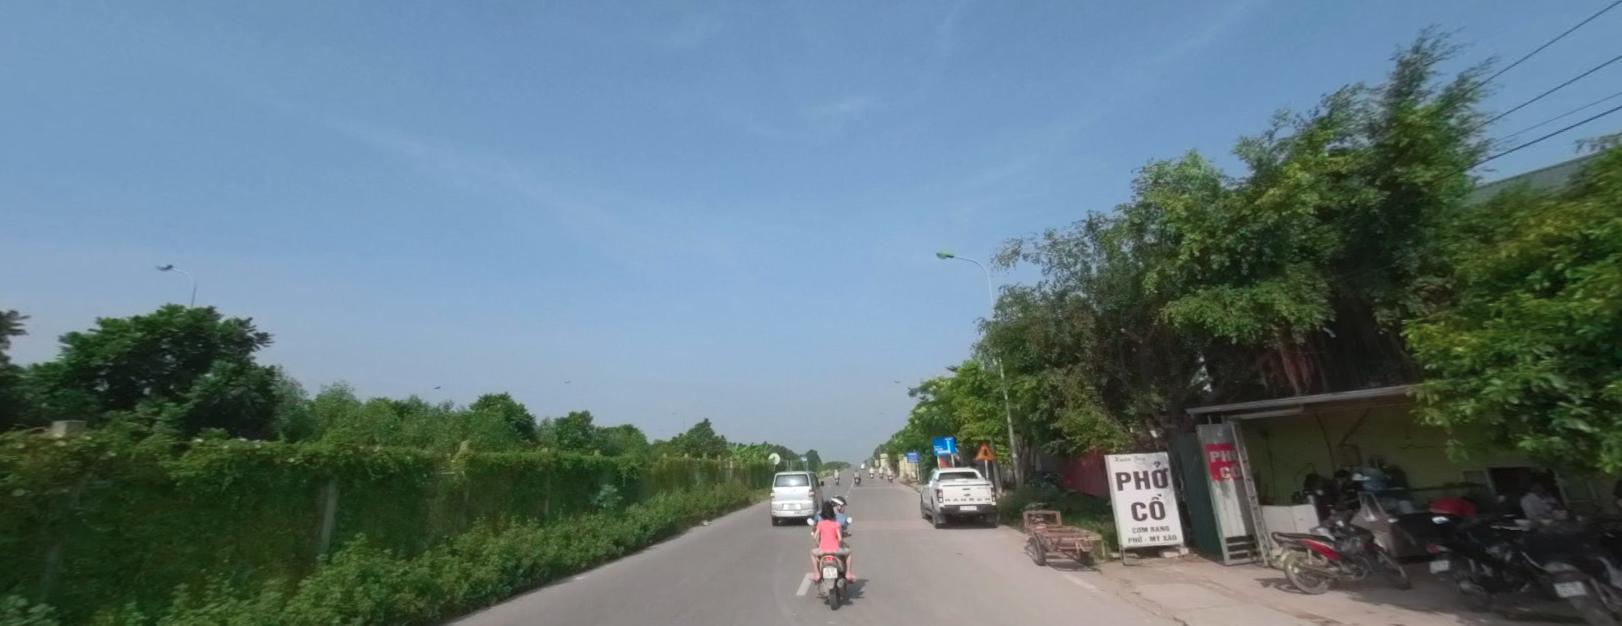Nguy hiem: (972, 439, 997, 460)
